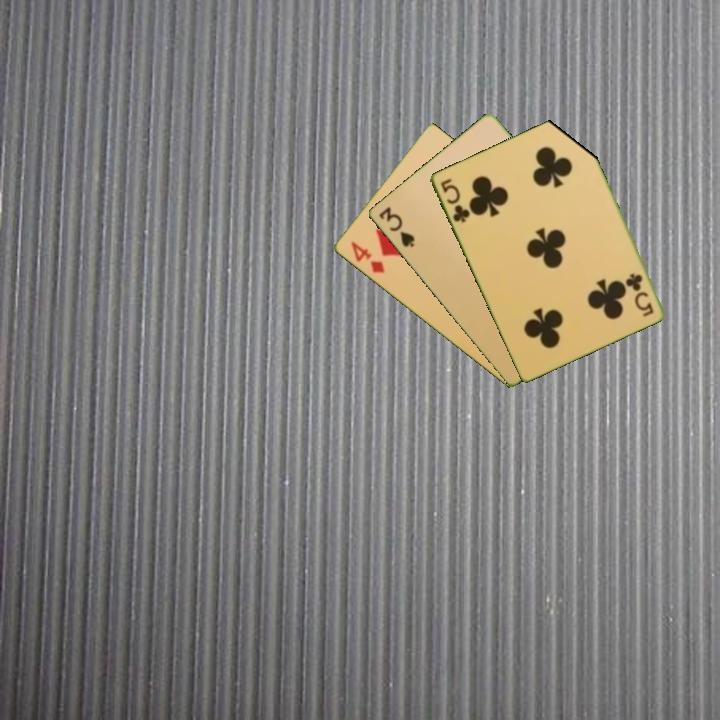3s: (375, 203, 417, 250)
4d: (347, 238, 388, 276)
5c: (437, 175, 472, 226), (623, 269, 656, 319)
